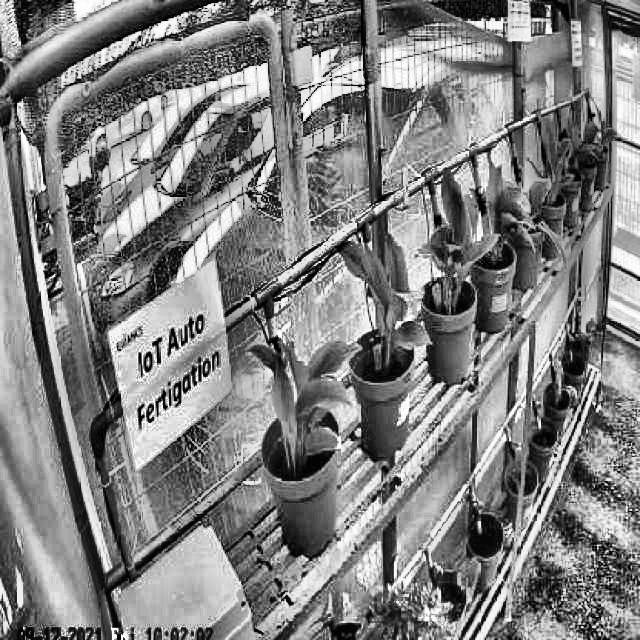plants: (249, 337, 360, 465), (336, 234, 432, 358), (425, 167, 493, 301)
